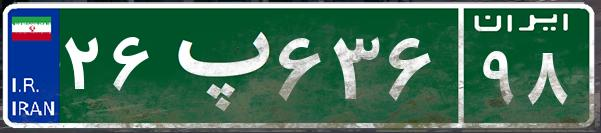2: (57, 26, 110, 107)
3: (330, 28, 385, 110)
6: (385, 28, 445, 110), (273, 28, 330, 110), (110, 28, 158, 105)
8: (525, 38, 570, 115)
9: (475, 38, 525, 113)
پ: (158, 15, 273, 115)
